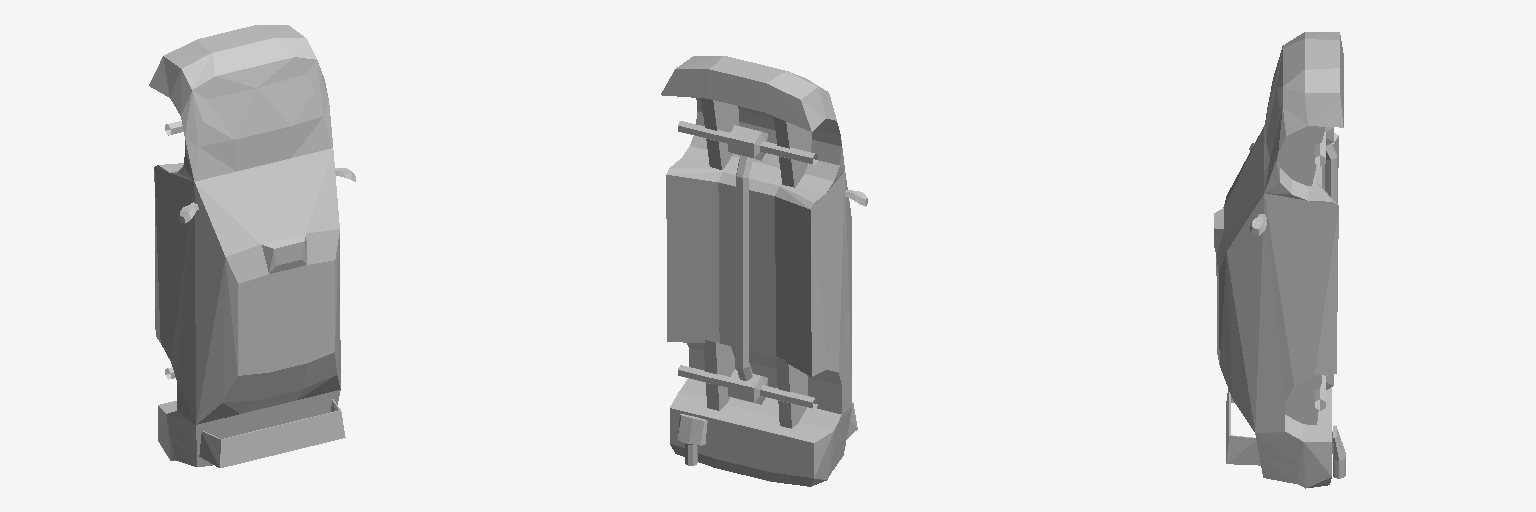
The model's file is evo_wrc.obj.
3 renders of one model, left to right at view 1: azimuth 30°, elevation 25°; view 2: azimuth 150°, elevation 25°; view 3: azimuth 270°, elevation 25°, orthographic.
Parts seen in each view (by area): view 1: evo; view 2: evo; view 3: evo.
Boxes of the visible parts, box(x1,y1,x2,y2) form: evo: box(149, 25, 355, 467); evo: box(661, 56, 867, 486); evo: box(1214, 32, 1345, 488).
Size of the model in its own units: 171 by 375 by 112.